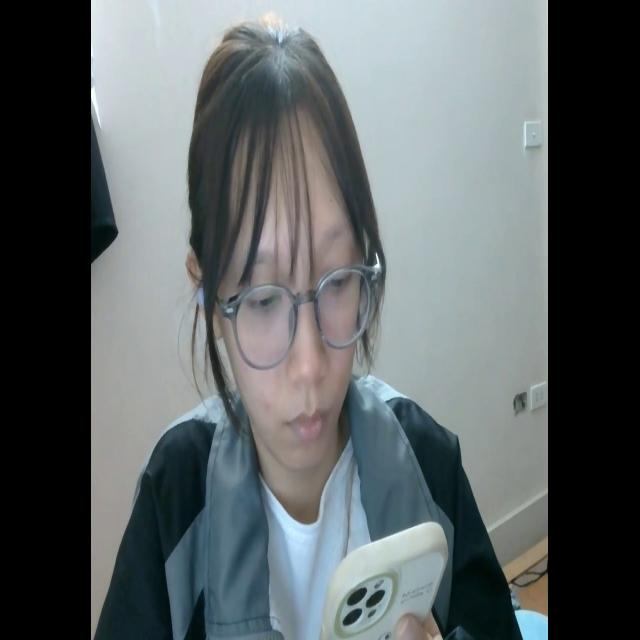phone: (316, 510, 451, 640)
student: (96, 13, 526, 640)
